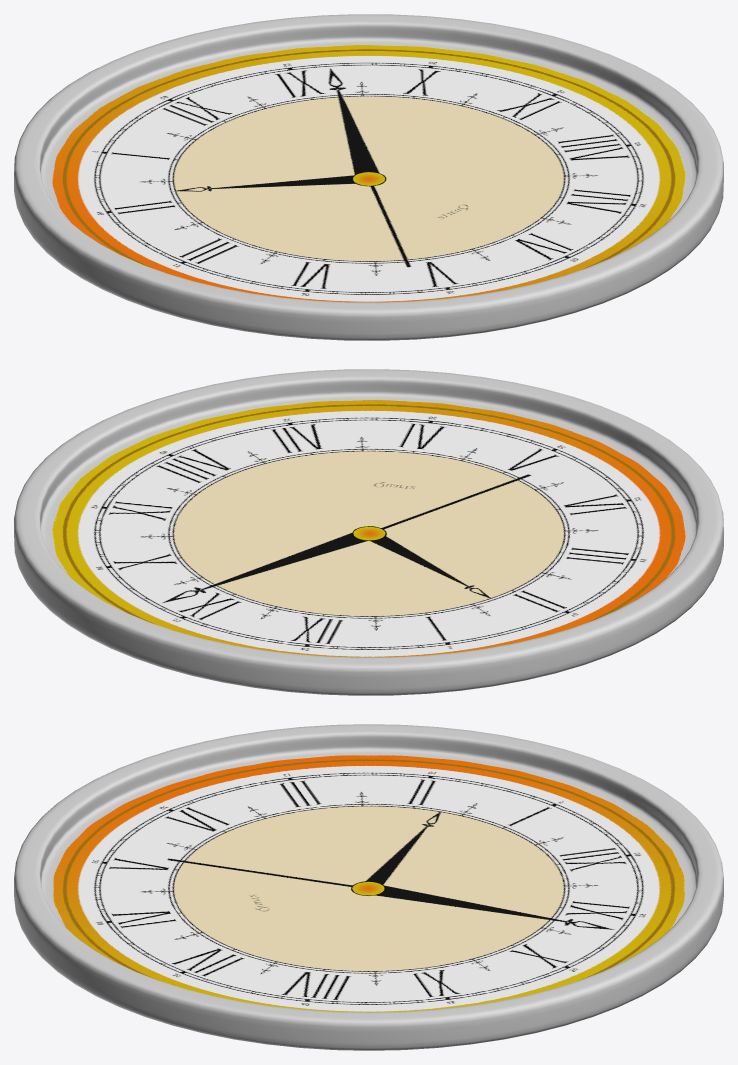
Rendered from ClockNormalsCorrected.fbx.
3 renders of one model, top to bottom at view 1: azimuth 30°, elevation 25°; view 2: azimuth 150°, elevation 25°; view 3: azimuth 270°, elevation 25°, orthographic.
Visible parts, largest first — view 1: Cylinder; view 2: Cylinder; view 3: Cylinder.
Part boxes in pixels (x1,y1,x2,y2): Cylinder: (14, 14, 723, 340); Cylinder: (14, 369, 723, 695); Cylinder: (14, 724, 723, 1050).
Bounding box in the file's own units: 199 × 9.43 × 199.
Materials: 2 (1 with a texture image).
